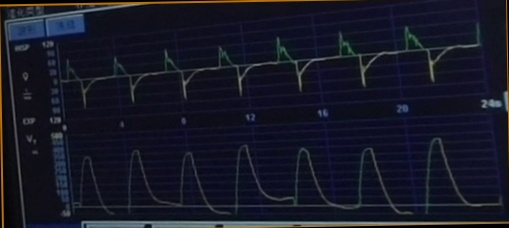Accumulation Flow: (64, 25, 474, 111)
Volume: (73, 138, 491, 217)
